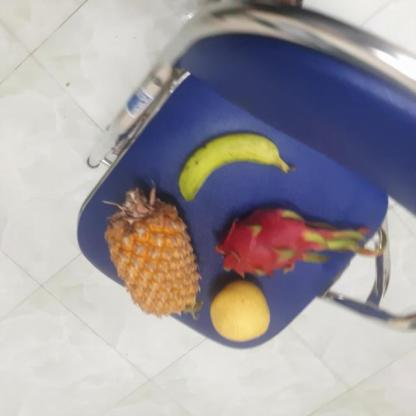banana: (181, 132, 287, 205)
pear: (208, 280, 274, 342)
pineapple: (96, 216, 200, 320)
pitaya: (220, 204, 333, 278)
